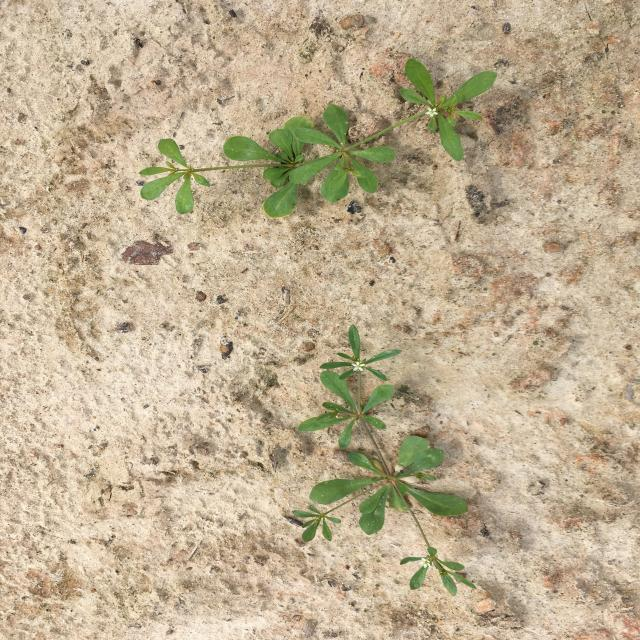Carpetweed: (138, 58, 498, 218), (291, 324, 477, 596)
